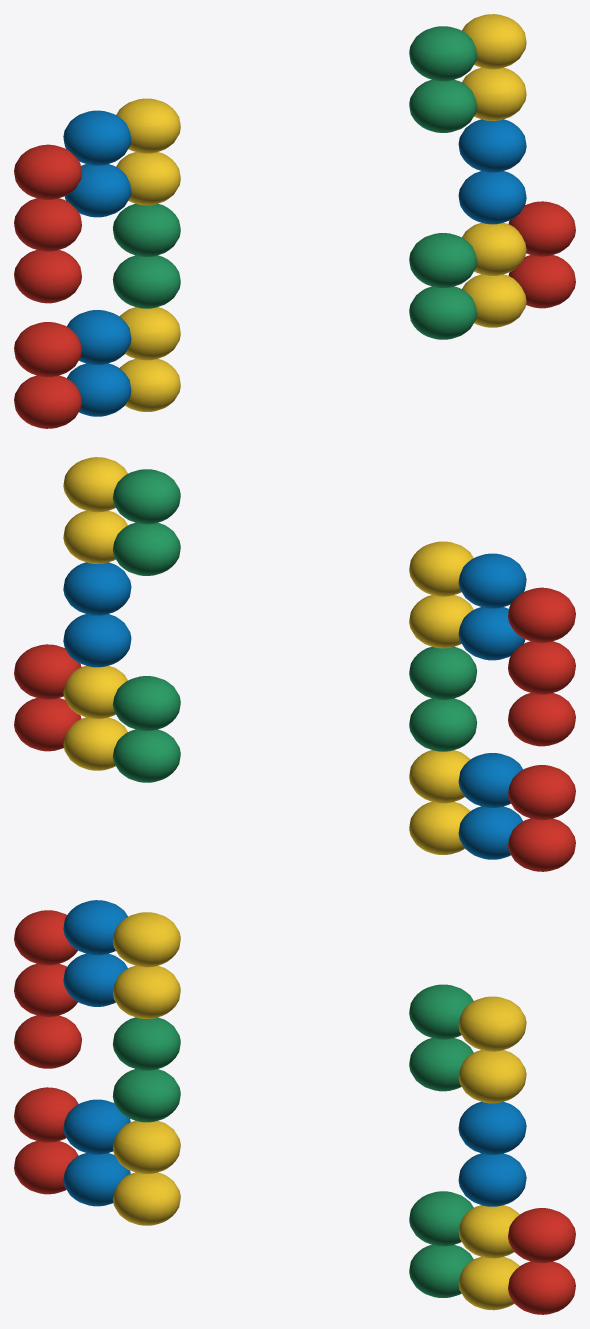
The model's file is 6-painted-counting-beads-1.fbx.
3 views of the same model, one above another, from view 1: azimuth 30°, elevation 25°; view 2: azimuth 150°, elevation 25°; view 3: azimuth 330°, elevation 25° (orthographic).
Visible parts, largest first — view 1: painted-counting-beads-1; view 2: painted-counting-beads-1; view 3: painted-counting-beads-1.
Part boxes in pixels (bbox=[...]): painted-counting-beads-1: bbox=[14, 14, 575, 428]; painted-counting-beads-1: bbox=[14, 457, 575, 871]; painted-counting-beads-1: bbox=[14, 900, 575, 1314].
Bounding box in the file's own units: 7840 × 4138 × 840.
1 material, 1 textured.
